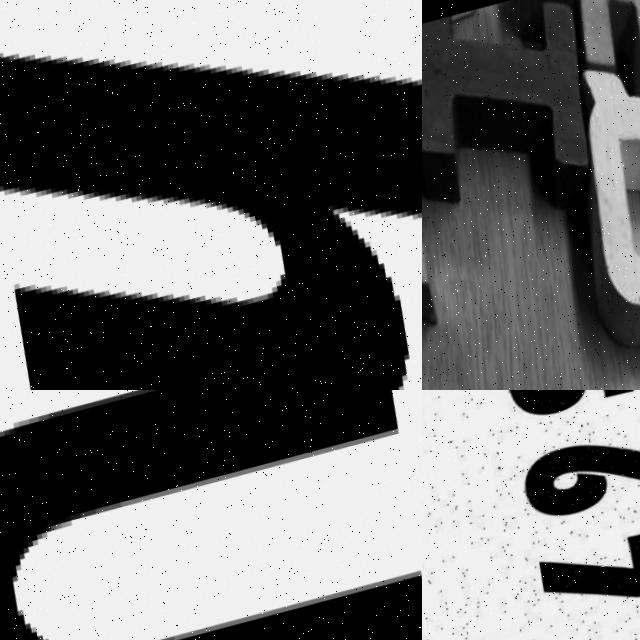5: (488, 390, 640, 433)
6: (511, 418, 640, 532)
7: (528, 522, 640, 635)
F: (499, 0, 640, 146)
Q: (553, 68, 640, 386)
U: (0, 390, 422, 640)
